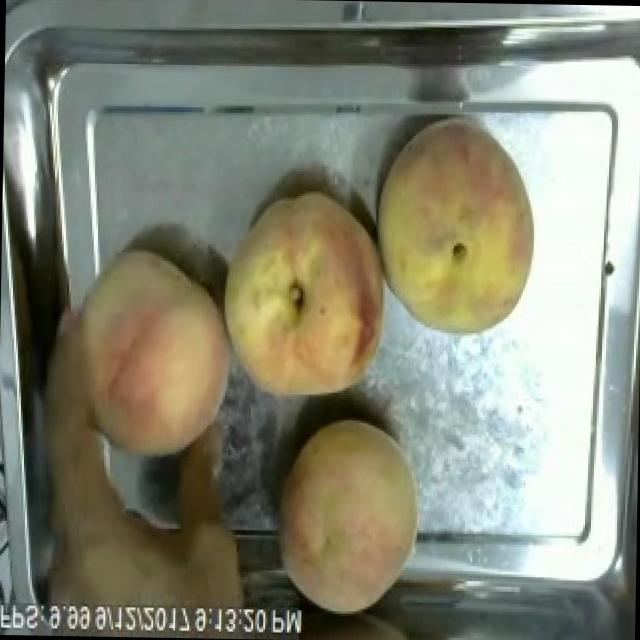Fruit: (29, 235, 248, 476), (206, 182, 394, 412), (368, 110, 548, 344), (260, 408, 430, 625)
